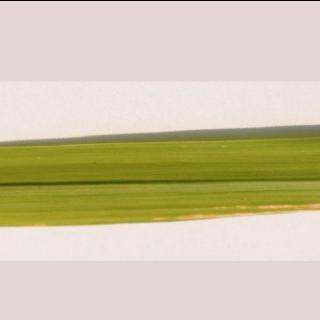Hawar-Daun: (11, 182, 320, 245)
